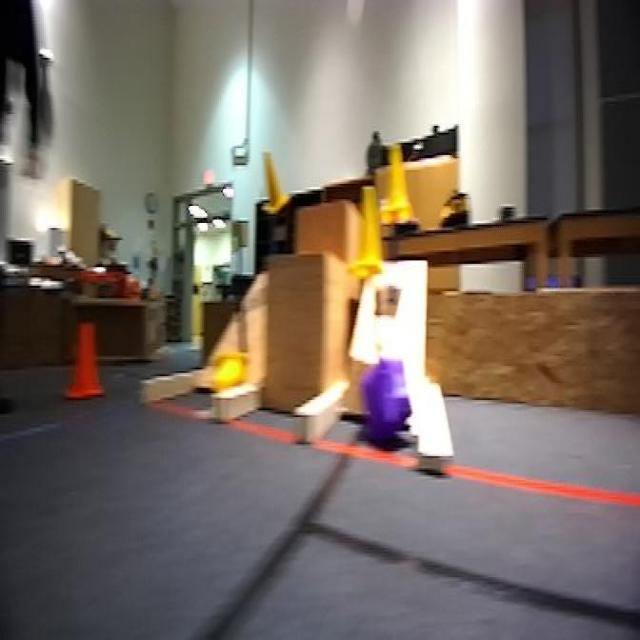frc_cone: (350, 185, 385, 278), (208, 339, 246, 412), (381, 144, 414, 224), (262, 153, 288, 218)
frc_cube: (354, 356, 409, 439)
